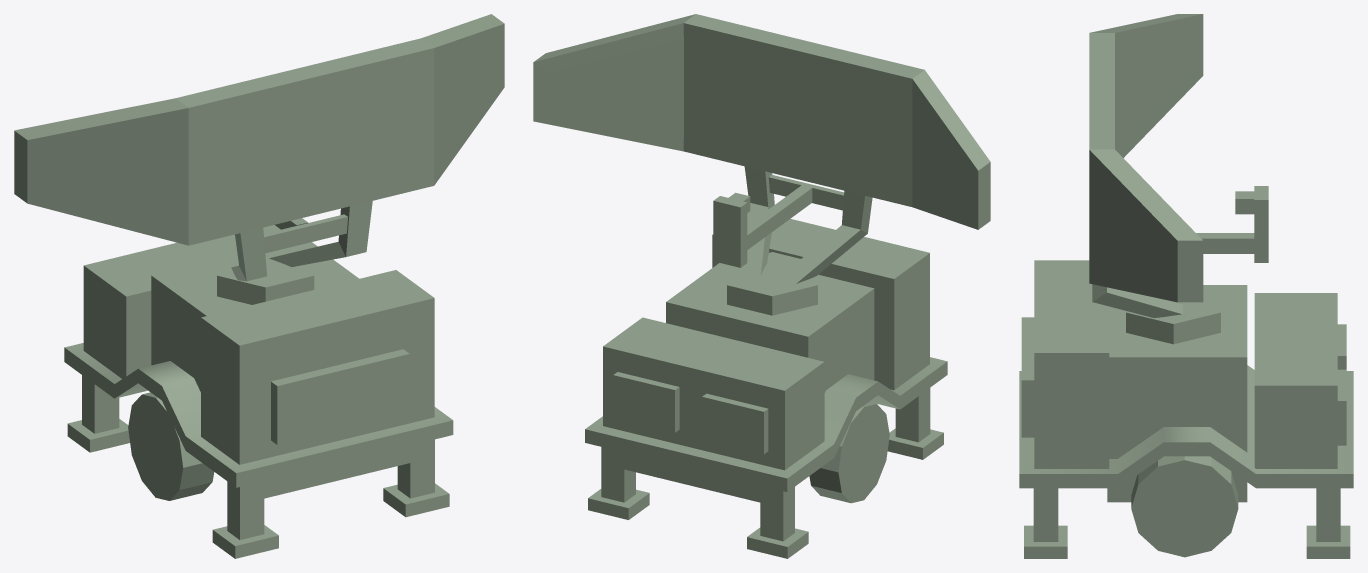
The model's file is radar_unit.fbx.
The picture shows the model from 3 angles, left to right: view 1: azimuth 30°, elevation 25°; view 2: azimuth 150°, elevation 25°; view 3: azimuth 270°, elevation 25°; orthographic projection. The views are drawn at different scales.
Parts seen in each view (by area): view 1: radar_unit, radar_turret; view 2: radar_unit, radar_turret; view 3: radar_unit, radar_turret.
Boxes of the visible parts, x1,y1,x2,y2 form: radar_unit: [64, 225, 453, 558]; radar_turret: [14, 14, 504, 304]; radar_unit: [585, 213, 947, 558]; radar_turret: [533, 14, 990, 315]; radar_unit: [1019, 260, 1353, 558]; radar_turret: [1089, 14, 1268, 344].
Bounding box in the file's own units: 6.56 × 5.64 × 4.09.
